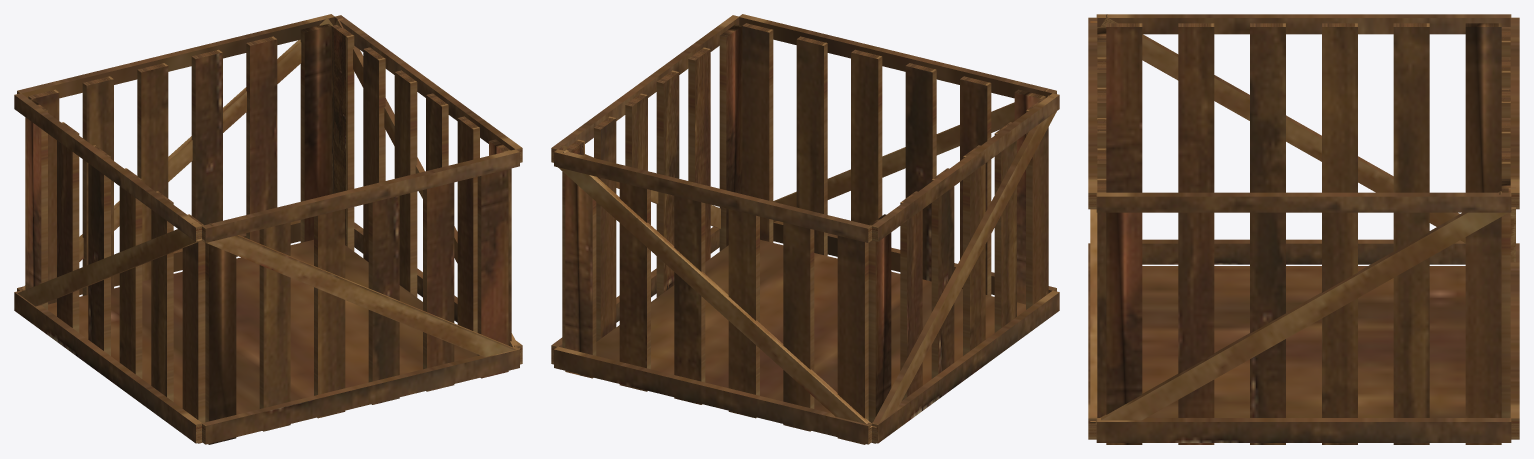
The model's file is crate.dae.
3 views of the same model, side by side, from view 1: azimuth 30°, elevation 25°; view 2: azimuth 150°, elevation 25°; view 3: azimuth 270°, elevation 25° (orthographic). The views are drawn at different scales.
Parts seen in each view (by area): view 1: Cube, Plane.031, Plane.035, Plane.027, Plane.011, Plane.010, Plane.017, Plane.009, Plane.014, Plane.013, Plane.016, Plane.015 (+25 smaller); view 2: Cube, Plane.030, Plane.034, Plane.026, Plane.014, Plane.013, Plane.008, Plane.012, Plane.032, Plane.011, Plane.010, Plane.007 (+24 smaller); view 3: Cube, Plane.029, Plane.033, Plane.025, Plane.005, Plane.002, Plane.004, Plane.001, Plane.003, Plane, Plane.022, Plane.020 (+14 smaller).
Part boxes in pixels (<box>): Cube: <box>48,239,477,414</box>; Plane.031: <box>202,346,519,444</box>; Plane.035: <box>201,223,515,356</box>; Plane.027: <box>202,149,519,242</box>; Plane.011: <box>300,24,331,242</box>; Plane.010: <box>246,36,277,243</box>; Plane.017: <box>205,243,236,444</box>; Plane.009: <box>191,49,222,225</box>; Plane.014: <box>477,169,508,378</box>; Plane.013: <box>423,182,454,391</box>; Plane.016: <box>259,222,290,431</box>; Plane.015: <box>314,209,345,418</box>; Cube: <box>596,239,1025,413</box>; Plane.030: <box>554,346,871,444</box>; Plane.034: <box>558,149,872,428</box>; Plane.026: <box>554,149,871,242</box>; Plane.014: <box>742,23,773,242</box>; Plane.013: <box>796,36,827,255</box>; Plane.008: <box>837,235,868,444</box>; Plane.012: <box>851,49,882,225</box>; Plane.032: <box>872,95,1056,428</box>; Plane.011: <box>565,174,596,378</box>; Plane.010: <box>619,182,650,391</box>; Plane.007: <box>783,222,814,431</box>; Cube: <box>1142,266,1465,417</box>; Plane.029: <box>1096,418,1511,442</box>; Plane.033: <box>1095,191,1512,424</box>; Plane.025: <box>1096,192,1511,212</box>; Plane.005: <box>1106,212,1142,444</box>; Plane.002: <box>1465,217,1501,444</box>; Plane.004: <box>1178,212,1214,444</box>; Plane.001: <box>1393,212,1429,444</box>; Plane.003: <box>1250,212,1285,444</box>; Plane: <box>1322,212,1357,444</box>; Plane.022: <box>1393,23,1429,192</box>; Plane.020: <box>1106,23,1142,192</box>.
Bounding box in the file's own units: 2.4 × 2.4 × 1.56.
Materials: 1 (1 with a texture image).
